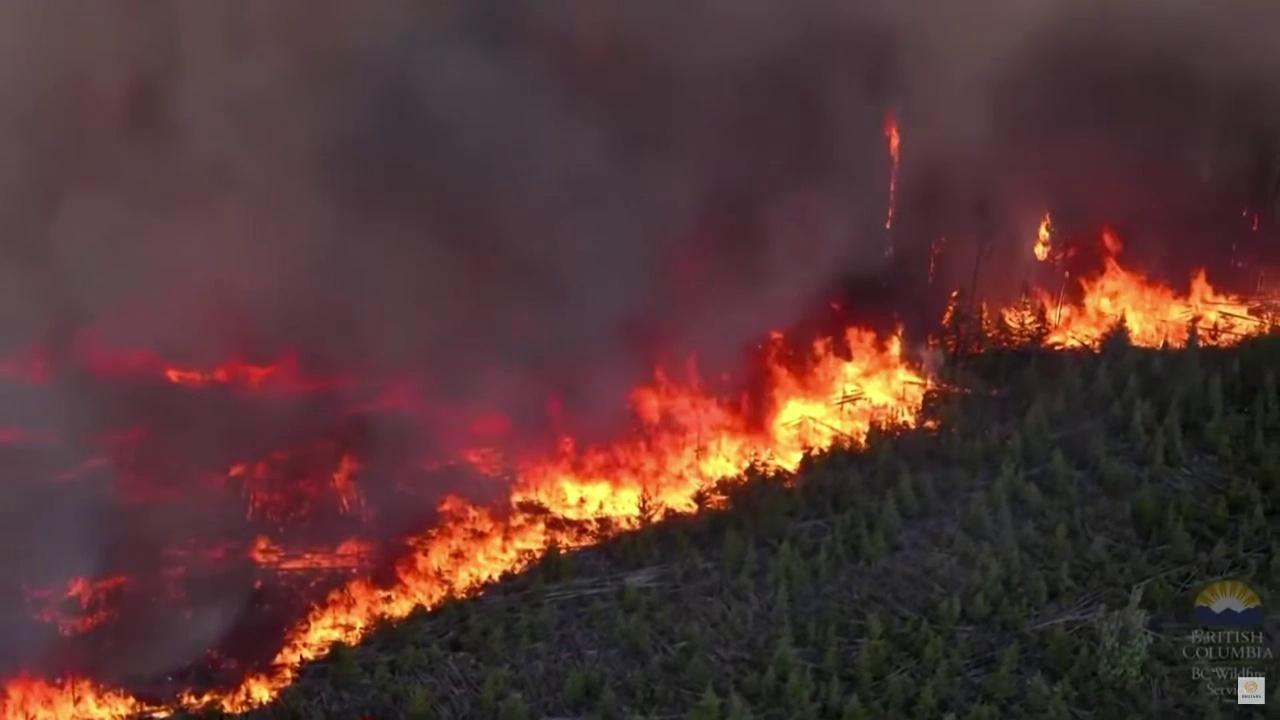fire: (0, 287, 962, 720), (972, 207, 1280, 358), (14, 569, 131, 637), (875, 106, 903, 228), (0, 337, 59, 393), (0, 416, 65, 454), (924, 231, 944, 287)
smoke: (0, 0, 1280, 720)
